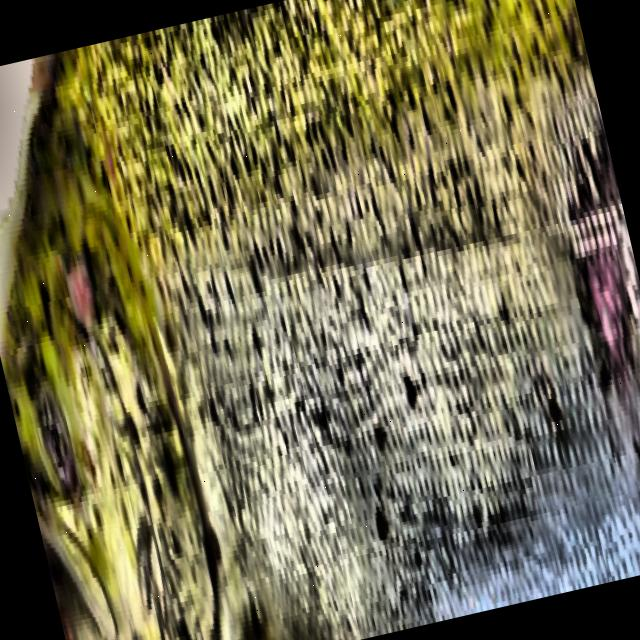mild_red: (88, 0, 640, 640)
